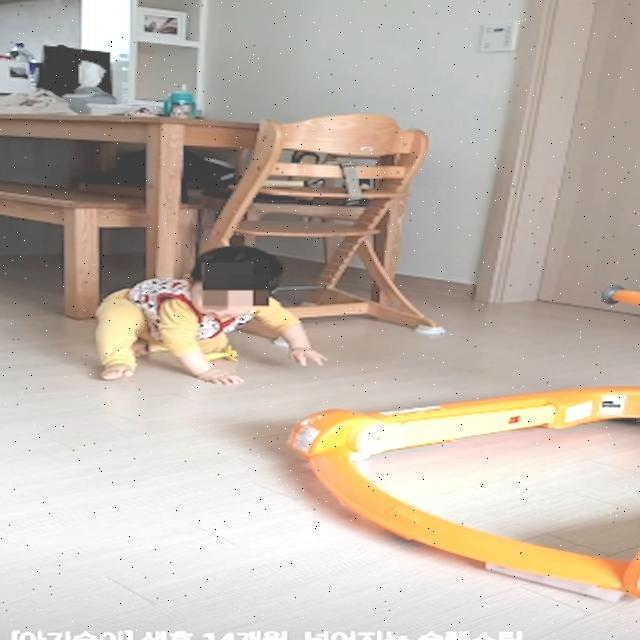child: (93, 239, 328, 385)
